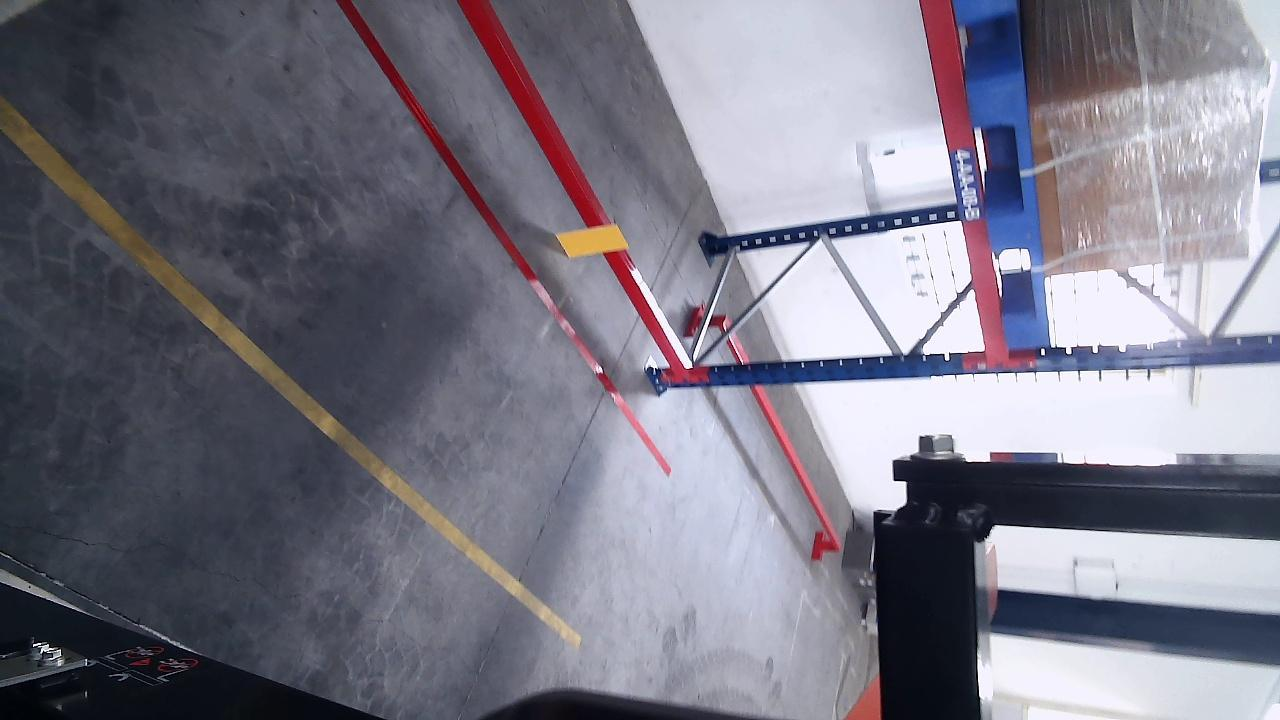h_rack: (452, 0, 691, 373), (919, 2, 1012, 347)
orange_strip: (559, 223, 631, 257)
red_line: (336, 0, 671, 479)
small_pallet: (966, 74, 1050, 346)
yellow_line: (0, 100, 581, 646)
